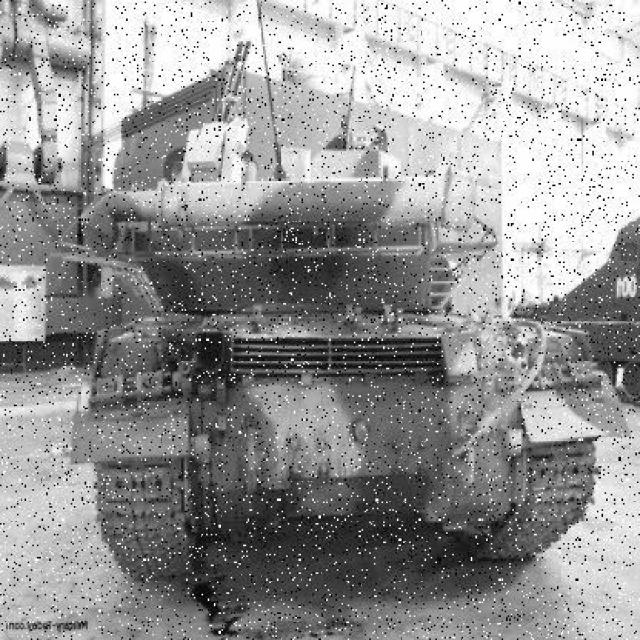Tank: (50, 41, 635, 583)
